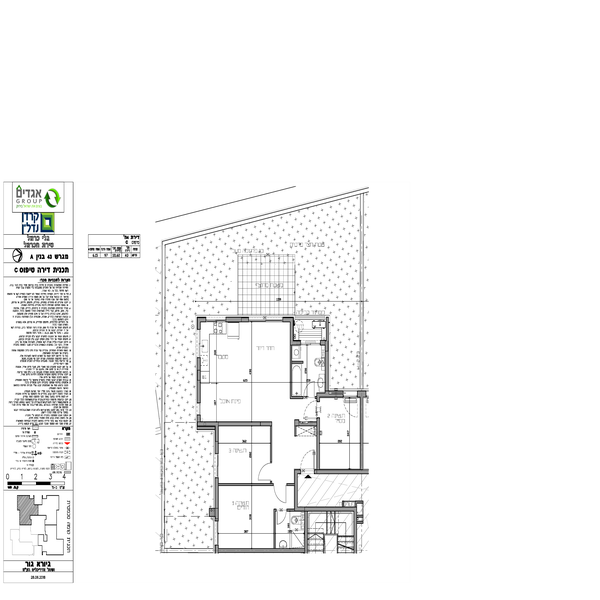room: (195, 310, 296, 428), (207, 477, 310, 557), (207, 416, 301, 487), (318, 386, 370, 479)
